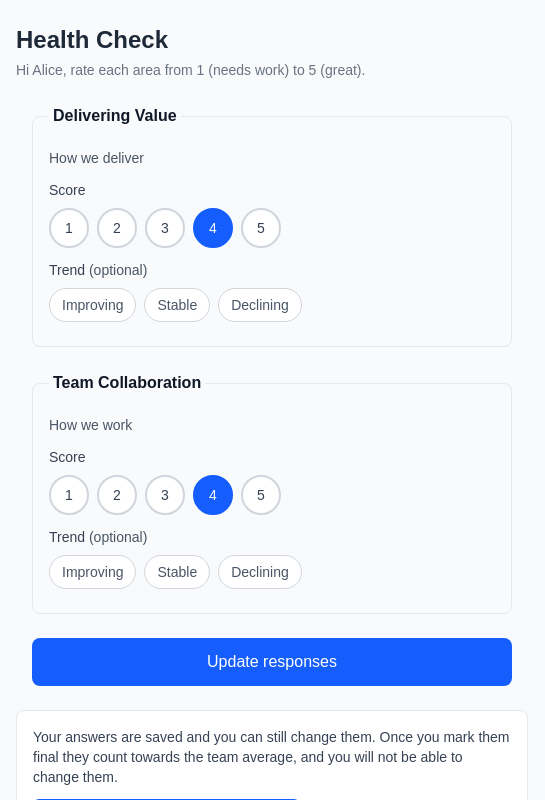
Test case: a member who answered on an earlier visit › is told nothing changed when they save without touching anything
Expected: the element "Delivering Value" is shown, [32,104,512,347]
What coordinates should you click on to do the following:
click the button "Update responses"
I would click on:
 (272, 662)
Its box is [32,638,512,686].
(page scrolled)
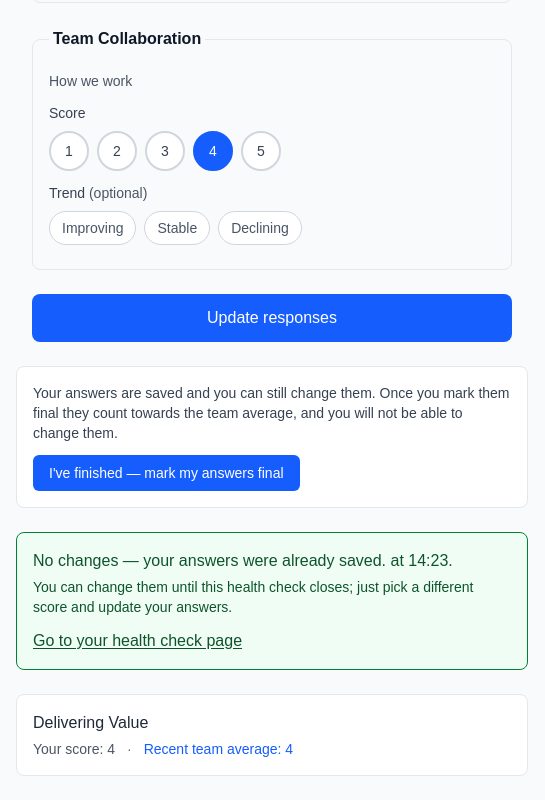
Now the message shows "No changes", box [33,552,386,569]
